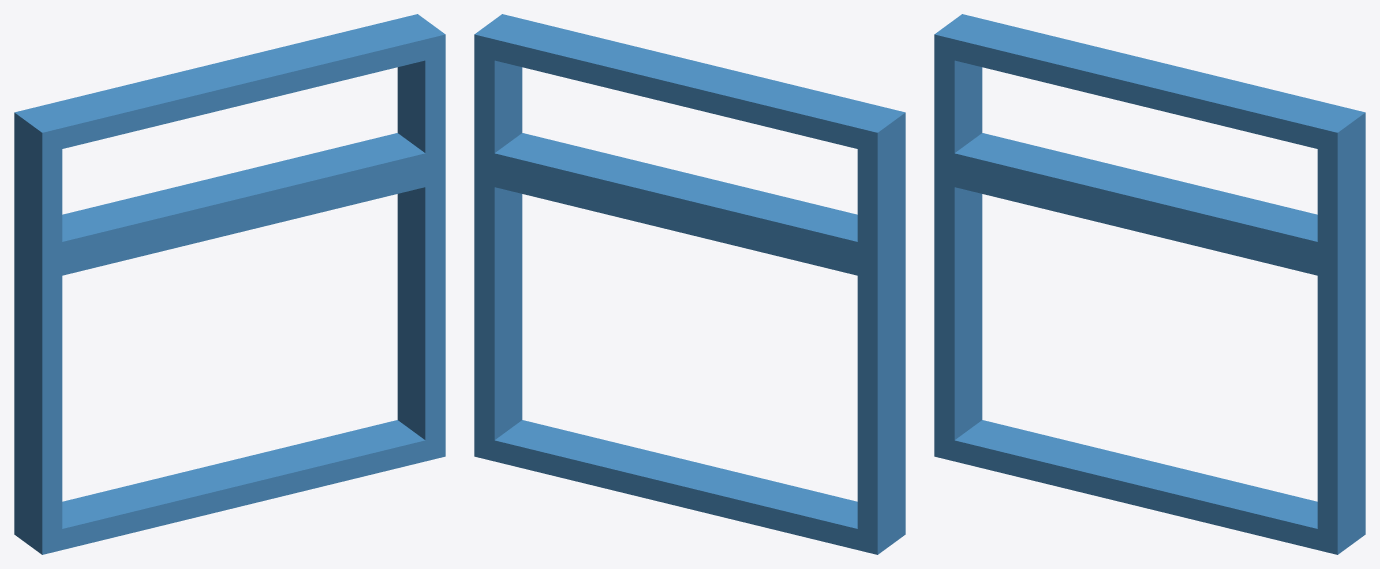
File: Ceiling C.fbx
The picture shows the model from 3 angles, left to right: view 1: azimuth 30°, elevation 25°; view 2: azimuth 150°, elevation 25°; view 3: azimuth 330°, elevation 25°; orthographic projection.
Parts seen in each view (by area): view 1: meshes[0]; view 2: meshes[0]; view 3: meshes[0].
Boxes of the visible parts, bbox=[...] form: meshes[0]: bbox=[14, 14, 445, 554]; meshes[0]: bbox=[474, 14, 905, 554]; meshes[0]: bbox=[934, 14, 1365, 554].
Bounding box in the file's own units: 50 × 50 × 6.
